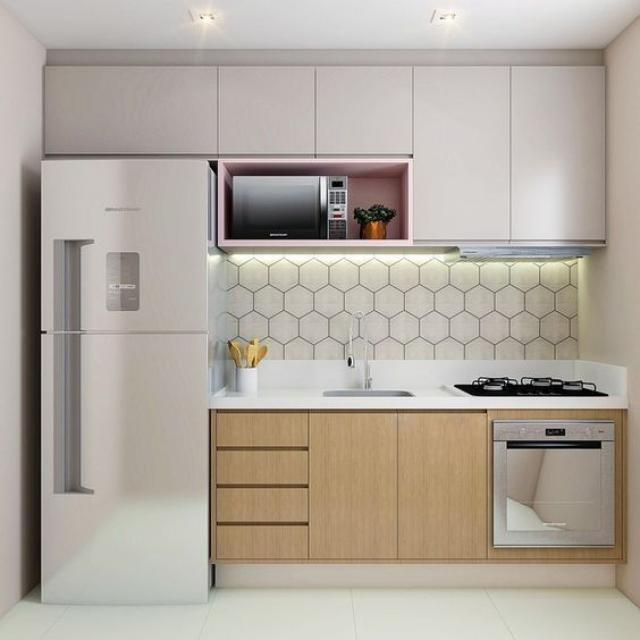obstacle: (38, 156, 212, 604), (213, 410, 495, 568), (412, 64, 607, 248)
